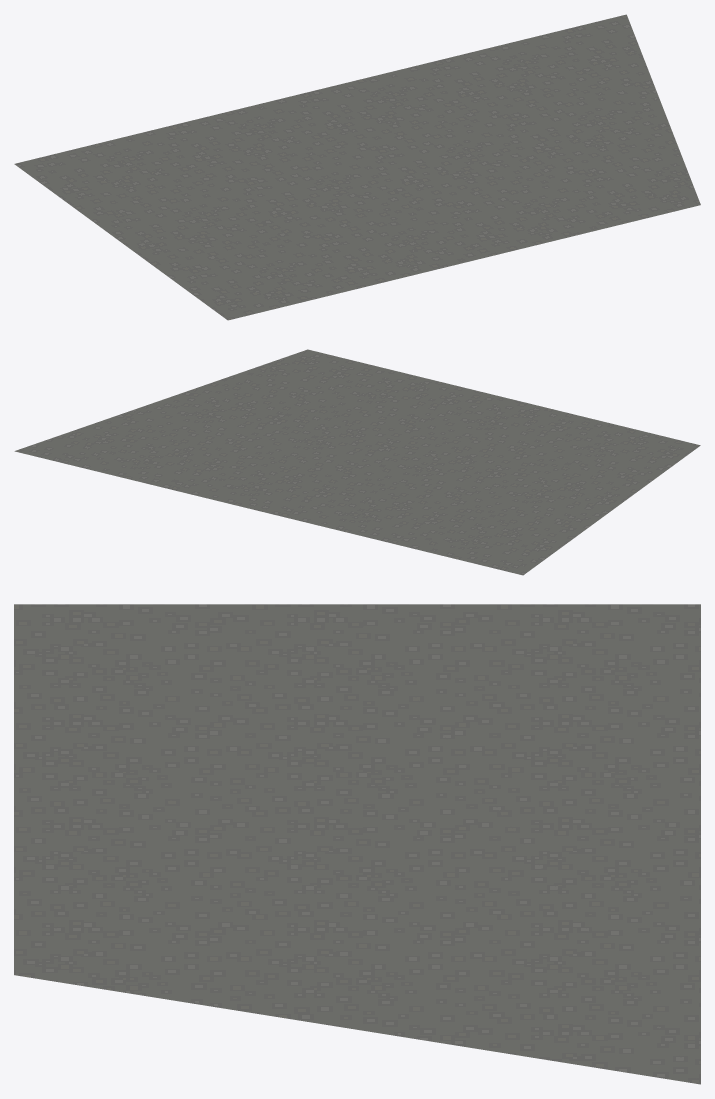
Rendered from kd_stage_135c43_1_1_bounded.glb.
3 views of the same model, one above another, from view 1: azimuth 30°, elevation 25°; view 2: azimuth 150°, elevation 25°; view 3: azimuth 270°, elevation 25° (orthographic). The views are drawn at different scales.
Visible parts, largest first — view 1: kd_stage_135c43_1_1_bounded; view 2: kd_stage_135c43_1_1_bounded; view 3: kd_stage_135c43_1_1_bounded.
Part boxes in pixels (box(x1,y1,x2,y2)): kd_stage_135c43_1_1_bounded: box(14, 14, 700, 320); kd_stage_135c43_1_1_bounded: box(14, 349, 700, 575); kd_stage_135c43_1_1_bounded: box(14, 604, 700, 1084).
Bounding box in the file's own units: 3.92 × 4.77e-07 × 2.37.
1 material, 1 textured.
